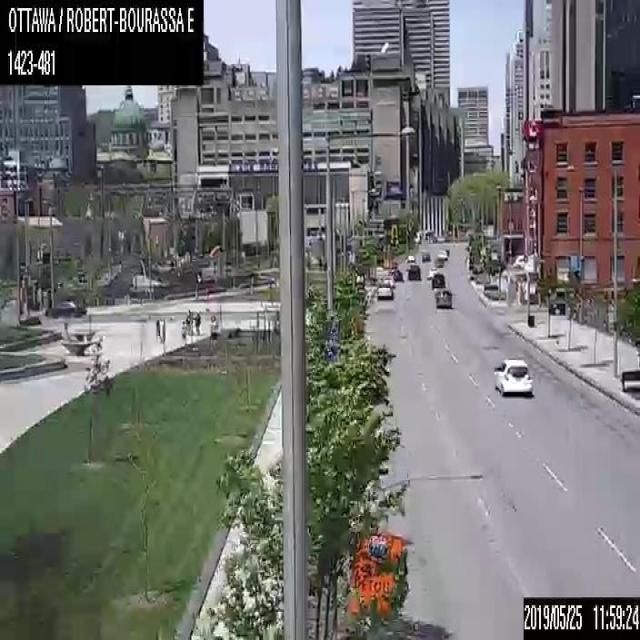construction: (350, 531, 406, 624)
pedestrian: (184, 307, 192, 335), (192, 309, 200, 336), (154, 317, 161, 340), (180, 318, 186, 338), (161, 318, 166, 340)
vehicle: (492, 353, 534, 395), (44, 299, 86, 317), (376, 278, 394, 298), (434, 290, 451, 310), (406, 264, 421, 279), (431, 272, 445, 288), (421, 251, 430, 260)
